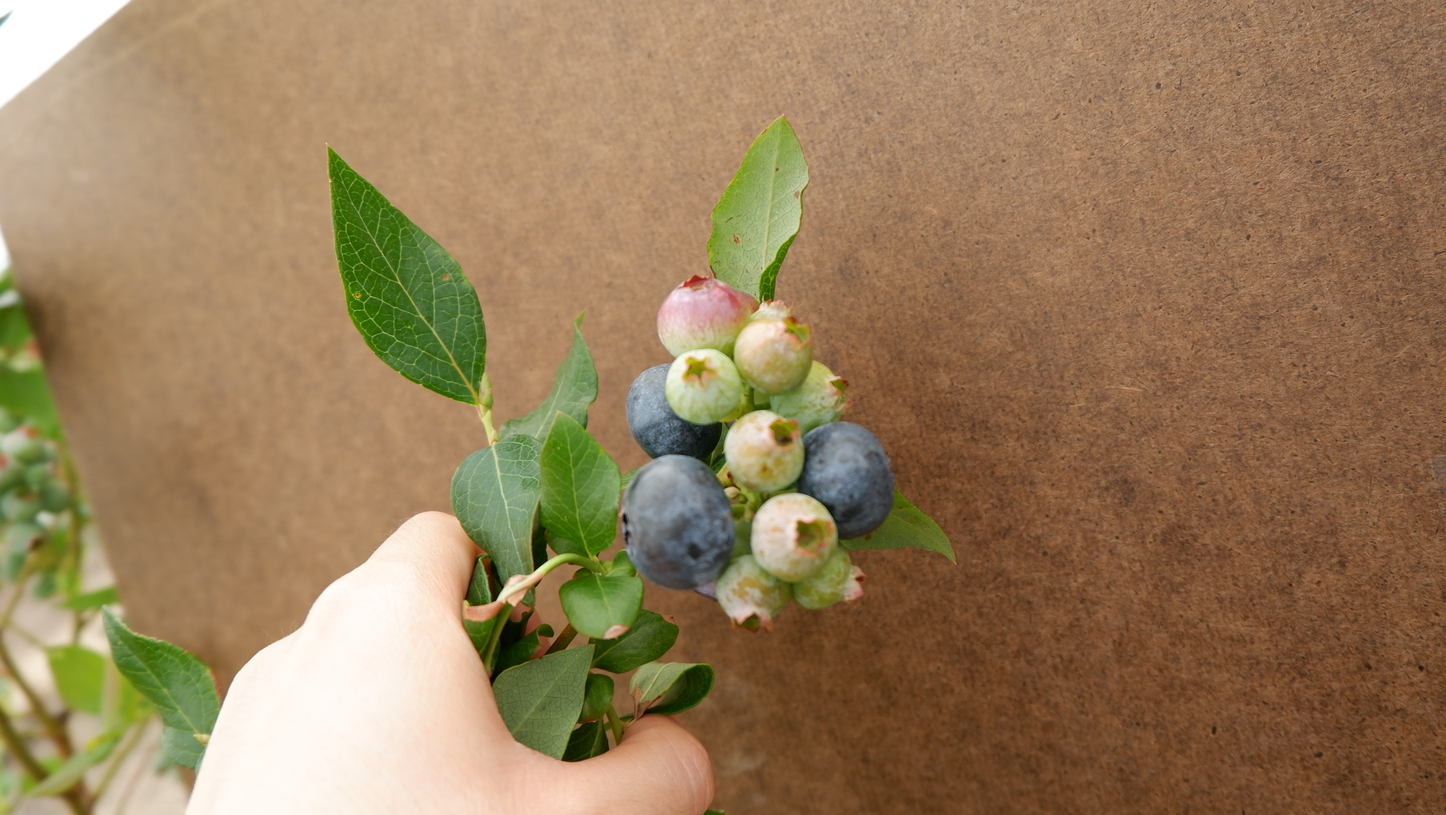Immature: (657, 274, 751, 361), (749, 494, 839, 583), (723, 410, 805, 493), (769, 361, 853, 438), (733, 318, 814, 396), (717, 555, 794, 636), (666, 349, 744, 423), (791, 542, 867, 609), (751, 295, 794, 322), (740, 291, 760, 316)
Mature: (621, 454, 735, 590), (792, 420, 896, 539), (625, 363, 723, 460)
